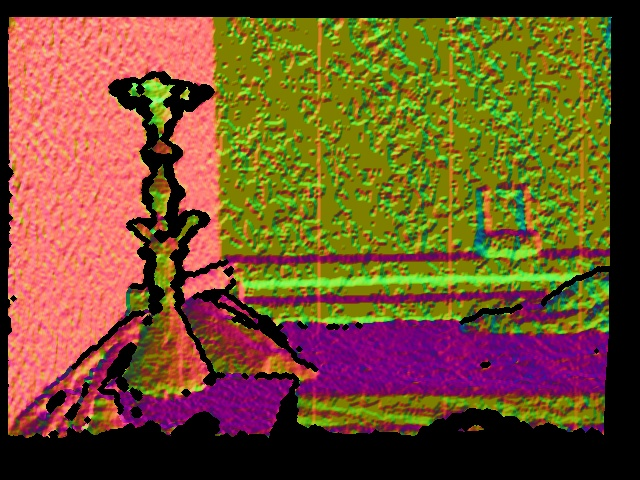station: (476, 184, 544, 256)
